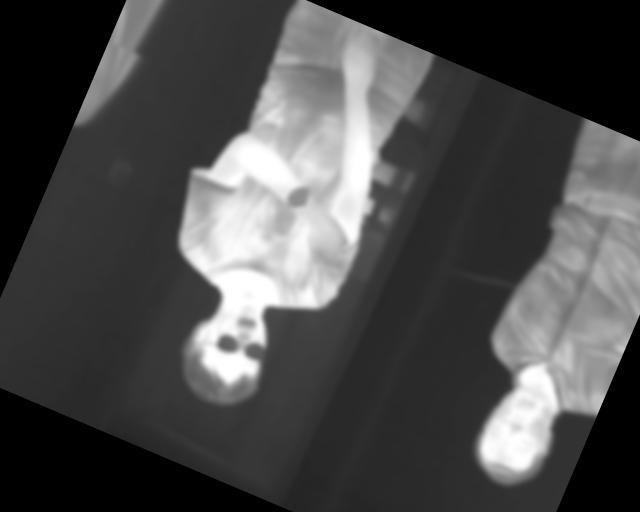face: (165, 286, 288, 421), (463, 372, 572, 499)
